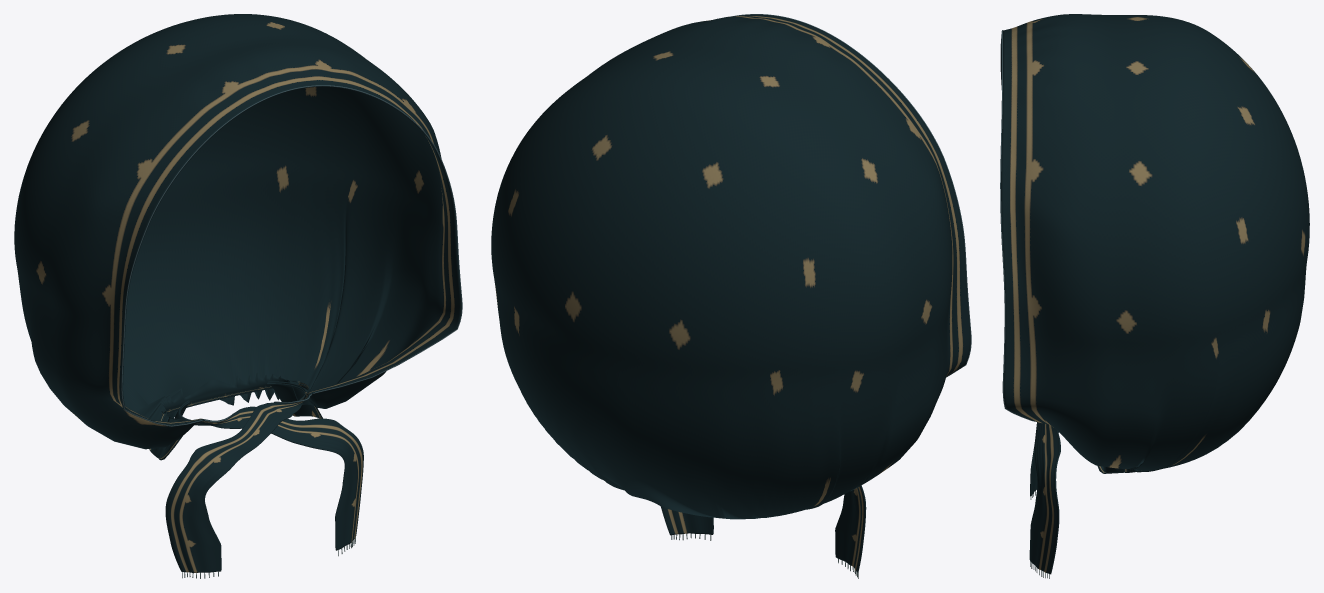
Rendered from Masculine-flow-jersey-pashmina250-headgear.glb.
3 views of the same model, side by side, from view 1: azimuth 30°, elevation 25°; view 2: azimuth 150°, elevation 25°; view 3: azimuth 270°, elevation 25° (orthographic). The views are drawn at different scales.
Parts seen in each view (by area): view 1: 226 headgear / Headwear / continuous woven pashmina239, 226 headgear / Headwear / face edge239; view 2: 226 headgear / Headwear / continuous woven pashmina239, 226 headgear / Headwear / face edge239; view 3: 226 headgear / Headwear / continuous woven pashmina239, 226 headgear / Headwear / face edge239.
Boxes of the visible parts, x1,y1,x2,y2 form: 226 headgear / Headwear / continuous woven pashmina239: (14, 14, 461, 572); 226 headgear / Headwear / face edge239: (121, 85, 462, 426); 226 headgear / Headwear / continuous woven pashmina239: (491, 14, 970, 572); 226 headgear / Headwear / face edge239: (731, 14, 971, 377); 226 headgear / Headwear / continuous woven pashmina239: (1001, 14, 1309, 574); 226 headgear / Headwear / face edge239: (1000, 30, 1034, 421).
Size of the model in its own units: 1.1 by 1.4 by 0.7763.
Materials: 3 (1 with a texture image).
